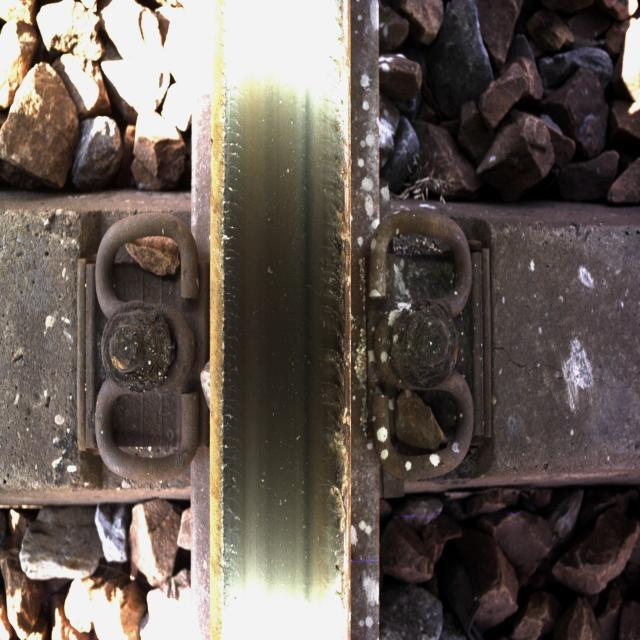scar: (218, 50, 356, 616)
